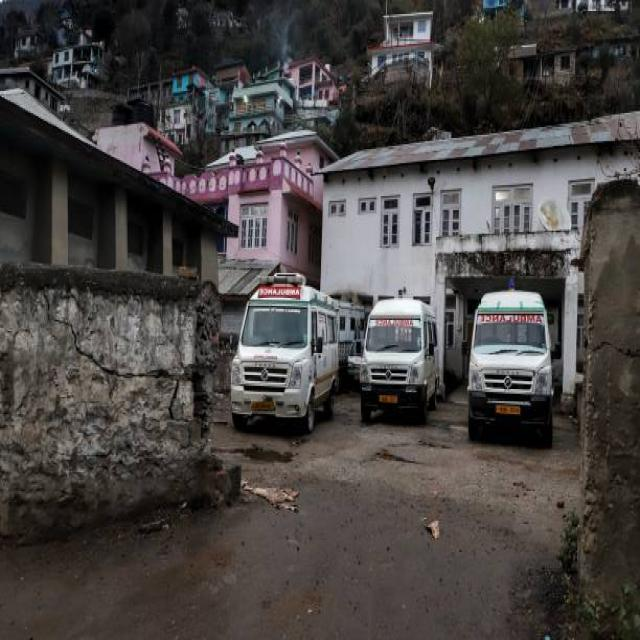ambulance: (228, 283, 341, 438), (464, 275, 558, 444), (355, 288, 443, 426)
